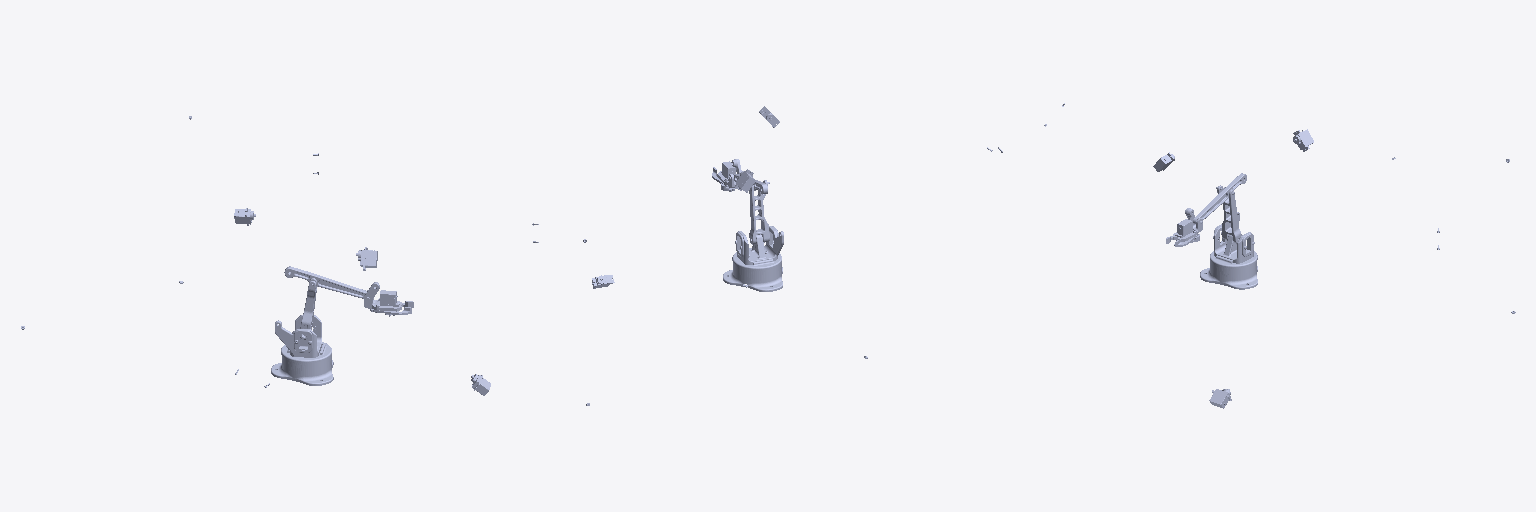
robot.urdf — Arm:
<?xml version="1.0" encoding="utf-8"?>
<!-- This URDF was automatically created by SolidWorks to URDF Exporter! Originally created by Stephen Brawner ([email redacted]) 
     Commit Version: 1.6.0-1-g15f4949  Build Version: 1.6.7594.29634
     For more information, please see http://wiki.ros.org/sw_urdf_exporter -->
<robot
  name="Arm">
  <link
    name="base_link">
    <inertial>
      <origin
        xyz="-0.00377490175092598 0.0117968193300164 0.111915553022725"
        rpy="0 0 0" />
      <mass
        value="0.0497217748522043" />
      <inertia
        ixx="2.7691005915736E-05"
        ixy="3.52926313057377E-10"
        ixz="2.67965631475746E-09"
        iyy="4.56375668926374E-05"
        iyz="1.08925829164701E-07"
        izz="2.5397344287959E-05" />
    </inertial>
    <visual>
      <origin
        xyz="0 0 0"
        rpy="0 0 0" />
      <geometry>
        <mesh
          filename="package://arduinobot_description/mesh/base_link.STL" />
      </geometry>
      <material
        name="">
        <color
          rgba="0.792156862745098 0.819607843137255 0.933333333333333 1" />
      </material>
    </visual>
    <collision>
      <origin
        xyz="0 0 0"
        rpy="0 0 0" />
      <geometry>
        <mesh
          filename="package://arduinobot_description/mesh/base_link.STL" />
      </geometry>
    </collision>
  </link>
  <link
    name="base_plate">
    <inertial>
      <origin
        xyz="0.00116142218947382 -0.00160468322487546 0.0171294741997838"
        rpy="0 0 0" />
      <mass
        value="0.0611941454820564" />
      <inertia
        ixx="1.67660453906481E-05"
        ixy="1.5929220500965E-06"
        ixz="-1.10364248055523E-06"
        iyy="2.073341802689E-05"
        iyz="1.42283668093053E-06"
        izz="2.65898078238803E-05" />
    </inertial>
    <visual>
      <origin
        xyz="0 0 0"
        rpy="0 0 0" />
      <geometry>
        <mesh
          filename="package://arduinobot_description/mesh/base_plate.STL" />
      </geometry>
      <material
        name="">
        <color
          rgba="0.792156862745098 0.819607843137255 0.933333333333333 1" />
      </material>
    </visual>
    <collision>
      <origin
        xyz="0 0 0"
        rpy="0 0 0" />
      <geometry>
        <mesh
          filename="package://arduinobot_description/mesh/base_plate.STL" />
      </geometry>
    </collision>
  </link>
  <joint
    name="joint_1"
    type="revolute">
    <origin
      xyz="-0.0038619 -0.11057 0.0294"
      rpy="0 0 -2.2386" />
    <parent
      link="base_link" />
    <child
      link="base_plate" />
    <axis
      xyz="0 0 1" />
    <limit
      lower="0"
      upper="0"
      effort="0"
      velocity="0" />
  </joint>
  <link
    name="vertical_arm">
    <inertial>
      <origin
        xyz="0.0348405723388961 -0.00423154458194008 -0.0011032652677013"
        rpy="0 0 0" />
      <mass
        value="0.0133698627995892" />
      <inertia
        ixx="1.05762372148649E-06"
        ixy="1.47857987933759E-07"
        ixz="2.81815236396118E-07"
        iyy="9.3919858776044E-06"
        iyz="-4.24825269290261E-09"
        izz="1.00610625979625E-05" />
    </inertial>
    <visual>
      <origin
        xyz="0 0 0"
        rpy="0 0 0" />
      <geometry>
        <mesh
          filename="package://arduinobot_description/mesh/vertical_arm.STL" />
      </geometry>
      <material
        name="">
        <color
          rgba="0.792156862745098 0.819607843137255 0.933333333333333 1" />
      </material>
    </visual>
    <collision>
      <origin
        xyz="0 0 0"
        rpy="0 0 0" />
      <geometry>
        <mesh
          filename="package://arduinobot_description/mesh/vertical_arm.STL" />
      </geometry>
    </collision>
  </link>
  <joint
    name="joint_2"
    type="revolute">
    <origin
      xyz="0 -0.00055135 0.0348"
      rpy="0 -1.459 1.5708" />
    <parent
      link="base_plate" />
    <child
      link="vertical_arm" />
    <axis
      xyz="0 1 0" />
    <limit
      lower="0"
      upper="0"
      effort="0"
      velocity="0" />
  </joint>
  <link
    name="horizontal_arm">
    <inertial>
      <origin
        xyz="0.0168510107746303 0.000421573301289557 0.00127223310522308"
        rpy="0 0 0" />
      <mass
        value="0.00875620015291007" />
      <inertia
        ixx="1.9065486123571E-07"
        ixy="1.26039857027103E-07"
        ixz="-4.66456127489906E-14"
        iyy="1.18867938167217E-05"
        iyz="3.18847841534954E-14"
        izz="1.19978813137545E-05" />
    </inertial>
    <visual>
      <origin
        xyz="0 0 0"
        rpy="0 0 0" />
      <geometry>
        <mesh
          filename="package://arduinobot_description/mesh/horizontal_arm.STL" />
      </geometry>
      <material
        name="">
        <color
          rgba="0.792156862745098 0.819607843137255 0.933333333333333 1" />
      </material>
    </visual>
    <collision>
      <origin
        xyz="0 0 0"
        rpy="0 0 0" />
      <geometry>
        <mesh
          filename="package://arduinobot_description/mesh/horizontal_arm.STL" />
      </geometry>
    </collision>
  </link>
  <joint
    name="joint_3"
    type="revolute">
    <origin
      xyz="0.079961 0 -0.0025"
      rpy="-1.5708 1.4257 -3.1416" />
    <parent
      link="vertical_arm" />
    <child
      link="horizontal_arm" />
    <axis
      xyz="0 0 1" />
    <limit
      lower="0"
      upper="0"
      effort="0"
      velocity="0" />
  </joint>
  <link
    name="servo_support">
    <inertial>
      <origin
        xyz="0.0270674454233878 0.0121050465286896 0.00931711214475904"
        rpy="0 0 0" />
      <mass
        value="0.014983550619918" />
      <inertia
        ixx="1.59596746361018E-06"
        ixy="-4.03239450736065E-08"
        ixz="4.04026839667081E-07"
        iyy="2.97413905056277E-06"
        iyz="1.27573344652052E-07"
        izz="2.21151715679188E-06" />
    </inertial>
    <visual>
      <origin
        xyz="0 0 0"
        rpy="0 0 0" />
      <geometry>
        <mesh
          filename="package://arduinobot_description/mesh/servo_support.STL" />
      </geometry>
      <material
        name="">
        <color
          rgba="0.792156862745098 0.819607843137255 0.933333333333333 1" />
      </material>
    </visual>
    <collision>
      <origin
        xyz="0 0 0"
        rpy="0 0 0" />
      <geometry>
        <mesh
          filename="package://arduinobot_description/mesh/servo_support.STL" />
      </geometry>
    </collision>
  </link>
  <joint
    name="horizontal_arm_to_servo_support"
    type="fixed">
    <origin
      xyz="0.077943 -0.016184 0.014397"
      rpy="-1.5708 0 0.25413" />
    <parent
      link="horizontal_arm" />
    <child
      link="servo_support" />
    <axis
      xyz="0 0 0" />
  </joint>
  <link
    name="right_finger">
    <inertial>
      <origin
        xyz="-0.017019135942944 -0.00216762456526287 -0.00105049106161036"
        rpy="0 0 0" />
      <mass
        value="0.00158026885286642" />
      <inertia
        ixx="2.55248674498608E-08"
        ixy="-3.14527219767119E-08"
        ixz="1.6560415184352E-08"
        iyy="4.34820108176013E-07"
        iyz="3.82991174572884E-09"
        izz="4.48272343480474E-07" />
    </inertial>
    <visual>
      <origin
        xyz="0 0 0"
        rpy="0 0 0" />
      <geometry>
        <mesh
          filename="package://arduinobot_description/mesh/right_finger.STL" />
      </geometry>
      <material
        name="">
        <color
          rgba="0.792156862745098 0.819607843137255 0.933333333333333 1" />
      </material>
    </visual>
    <collision>
      <origin
        xyz="0 0 0"
        rpy="0 0 0" />
      <geometry>
        <mesh
          filename="package://arduinobot_description/mesh/right_finger.STL" />
      </geometry>
    </collision>
  </link>
  <joint
    name="joint_4"
    type="revolute">
    <origin
      xyz="0.02056 0.003575 0"
      rpy="0 0 2.9668" />
    <parent
      link="servo_support" />
    <child
      link="right_finger" />
    <axis
      xyz="0 0 1" />
    <limit
      lower="0"
      upper="0"
      effort="0"
      velocity="0" />
  </joint>
  <link
    name="left_finger">
    <inertial>
      <origin
        xyz="-0.00908172913964694 0.00186015405802328 -0.00308139331124217"
        rpy="0 0 0" />
      <mass
        value="0.00296376551202787" />
      <inertia
        ixx="6.48396795491785E-08"
        ixy="2.69355221730115E-08"
        ixz="1.54574120740096E-08"
        iyy="4.54014895034833E-07"
        iyz="-1.29196469192606E-10"
        izz="4.92424713173099E-07" />
    </inertial>
    <visual>
      <origin
        xyz="0 0 0"
        rpy="0 0 0" />
      <geometry>
        <mesh
          filename="package://arduinobot_description/mesh/left_finger.STL" />
      </geometry>
      <material
        name="">
        <color
          rgba="0.792156862745098 0.819607843137255 0.933333333333333 1" />
      </material>
    </visual>
    <collision>
      <origin
        xyz="0 0 0"
        rpy="0 0 0" />
      <geometry>
        <mesh
          filename="package://arduinobot_description/mesh/left_finger.STL" />
      </geometry>
    </collision>
  </link>
  <joint
    name="joint_5"
    type="revolute">
    <origin
      xyz="0.020562 0.021677 0"
      rpy="0 0 -2.9503" />
    <parent
      link="servo_support" />
    <child
      link="left_finger" />
    <axis
      xyz="0 0 1" />
    <limit
      lower="0"
      upper="0"
      effort="0"
      velocity="0" />
    <mimic
      joint="joint_4"
      multiplier="-1"
      offset="0" />
  </joint>
</robot>

--- What the picture shows (computed from the rendered views, not written in the file) ---
3 views of the same robot in one strip: view 1: azimuth 30°, elevation 25°; view 2: azimuth 150°, elevation 25°; view 3: azimuth 270°, elevation 25° (orthographic).
Model Arm with 7 links and 6 joints (5 revolute, 1 fixed), rooted at base_link, posed all joints at 0.
Visible links, largest first — view 1: base_plate, base_link, horizontal_arm, servo_support, vertical_arm; view 2: base_plate, base_link, vertical_arm; view 3: base_plate, base_link, vertical_arm, servo_support, horizontal_arm.
Boxes of the visible links, x1,y1,x2,y2 form: base_plate: (179, 116, 377, 387); base_link: (271, 355, 490, 395); horizontal_arm: (284, 266, 366, 298); servo_support: (364, 282, 402, 316); vertical_arm: (21, 278, 316, 339); base_plate: (532, 106, 1002, 405); base_link: (592, 263, 782, 291); vertical_arm: (749, 180, 867, 358); base_plate: (1044, 103, 1515, 313); base_link: (1200, 261, 1257, 408); vertical_arm: (1216, 157, 1395, 242); servo_support: (1173, 208, 1202, 245); horizontal_arm: (1193, 173, 1246, 223).
Size in the robot's own frame: 0.6098 by 0.7054 by 0.3107 metres.
7 mesh visuals loaded from 7 distinct referenced files (7 binary STL).
